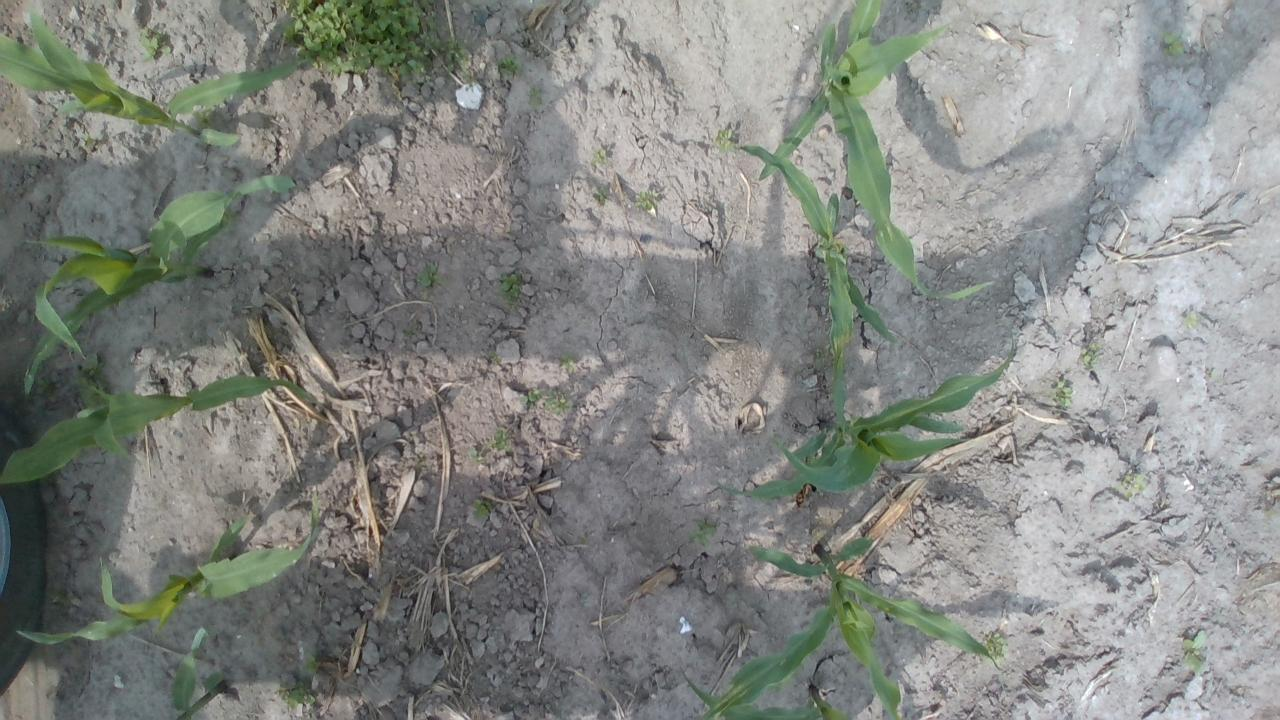Maize: (759, 0, 996, 307), (21, 175, 300, 396), (700, 541, 1000, 720), (726, 141, 898, 437), (712, 340, 1019, 504), (14, 496, 320, 647), (0, 9, 299, 150), (0, 374, 319, 489), (676, 666, 854, 720), (155, 626, 224, 720)
Weeds: (282, 0, 442, 82), (73, 360, 106, 406), (440, 38, 472, 80), (136, 24, 172, 61), (1180, 631, 1207, 674), (276, 683, 314, 708), (495, 272, 521, 307), (414, 260, 444, 289), (1120, 470, 1148, 501), (979, 633, 1010, 658), (688, 520, 716, 546), (1048, 378, 1072, 408), (1160, 31, 1188, 56), (1081, 341, 1105, 370), (495, 53, 522, 78), (546, 390, 568, 416), (492, 428, 513, 454), (472, 497, 493, 521), (300, 649, 320, 674), (716, 128, 736, 153), (520, 386, 540, 411), (636, 189, 658, 210), (525, 86, 544, 110), (815, 340, 835, 362), (1180, 310, 1200, 330), (560, 351, 576, 372), (594, 185, 611, 203), (592, 148, 608, 166), (222, 208, 234, 228), (400, 328, 418, 337), (468, 446, 480, 459), (1208, 368, 1218, 380), (488, 351, 498, 360)
